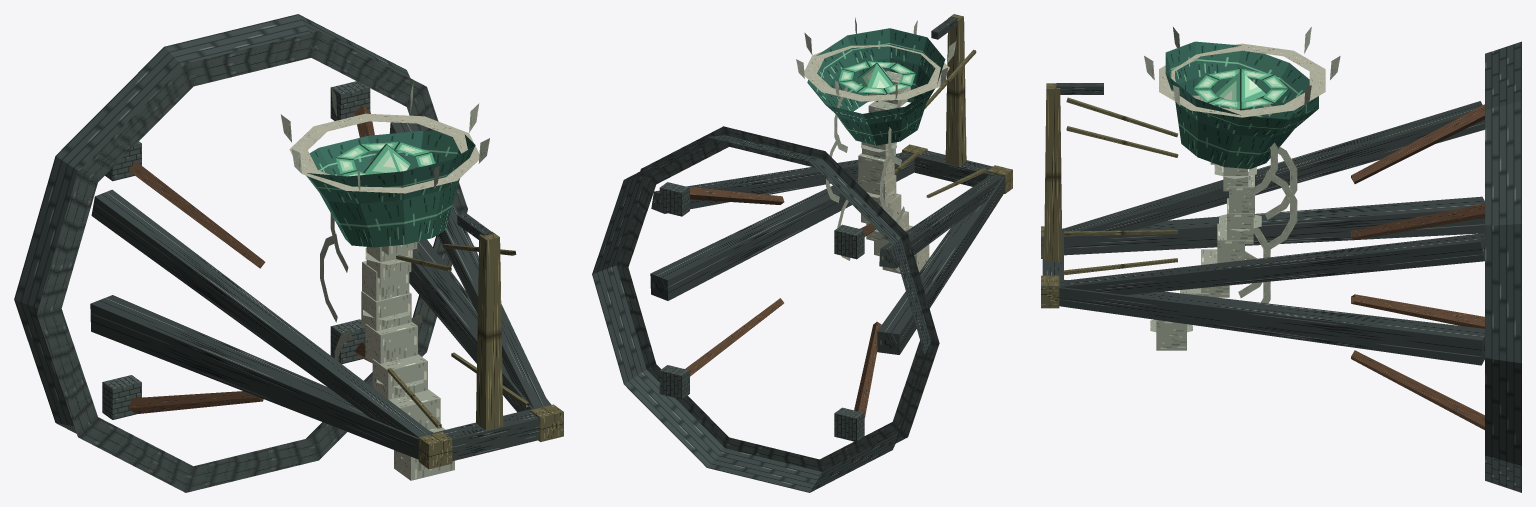
File: cistern-fossil.obj
The picture shows the model from 3 angles, left to right: view 1: azimuth 30°, elevation 25°; view 2: azimuth 150°, elevation 25°; view 3: azimuth 270°, elevation 25°; orthographic projection. The views are drawn at different scales.
Parts seen in each view (by area): view 1: base, gantry, bell, fossil; view 2: base, gantry, bell, fossil; view 3: gantry, base, bell, fossil.
Boxes of the visible parts, x1,y1,x2,y2 form: base: [14, 14, 467, 492]; gantry: [90, 122, 563, 469]; bell: [280, 83, 489, 247]; fossil: [320, 166, 454, 480]; base: [592, 126, 939, 492]; gantry: [650, 14, 1012, 354]; bell: [796, 17, 956, 145]; fossil: [826, 71, 929, 273]; gantry: [1041, 83, 1484, 365]; base: [1351, 41, 1521, 492]; bell: [1144, 27, 1340, 168]; fossil: [1150, 95, 1297, 350].
Size of the model in its own units: 2.96 by 2.93 by 3.13.
Materials: 1 (1 with a texture image).
